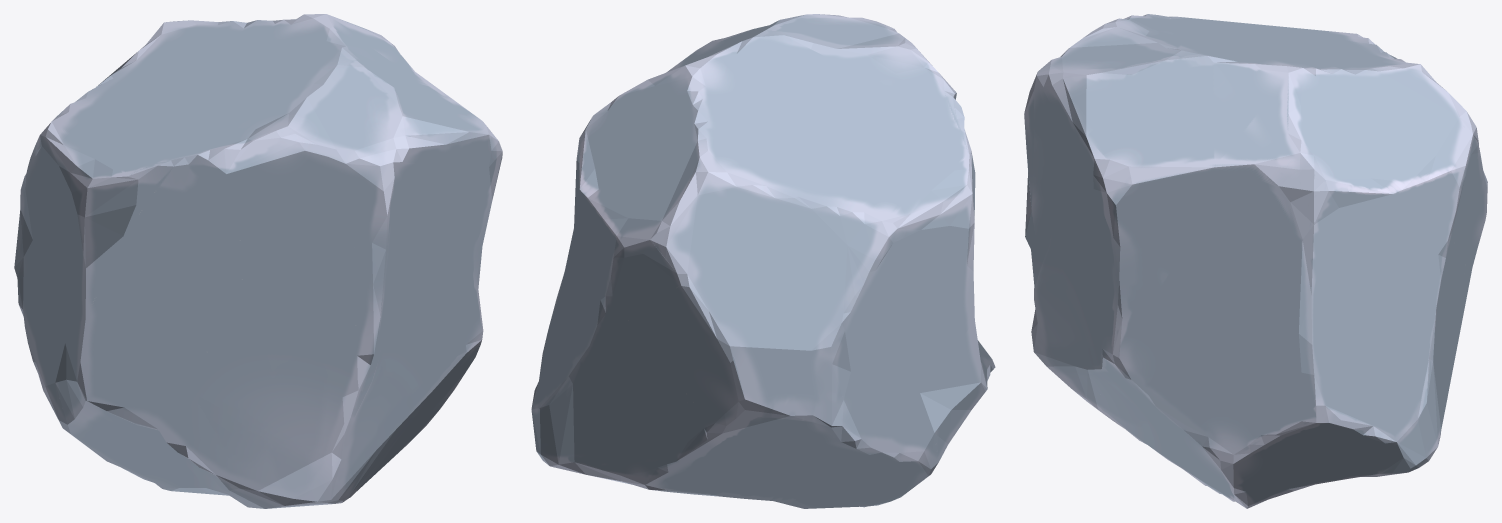
File: Rock.fbx
The picture shows the model from 3 angles, left to right: view 1: azimuth 30°, elevation 25°; view 2: azimuth 150°, elevation 25°; view 3: azimuth 270°, elevation 25°; orthographic projection. The views are drawn at different scales.
Parts seen in each view (by area): view 1: Cube; view 2: Cube; view 3: Cube.
Part boxes in pixels (left/top/right/bottom): Cube: left=14, top=14, right=502, bottom=508; Cube: left=531, top=14, right=995, bottom=508; Cube: left=1024, top=14, right=1487, bottom=508.
Size of the model in its own units: 186 by 199 by 194.
